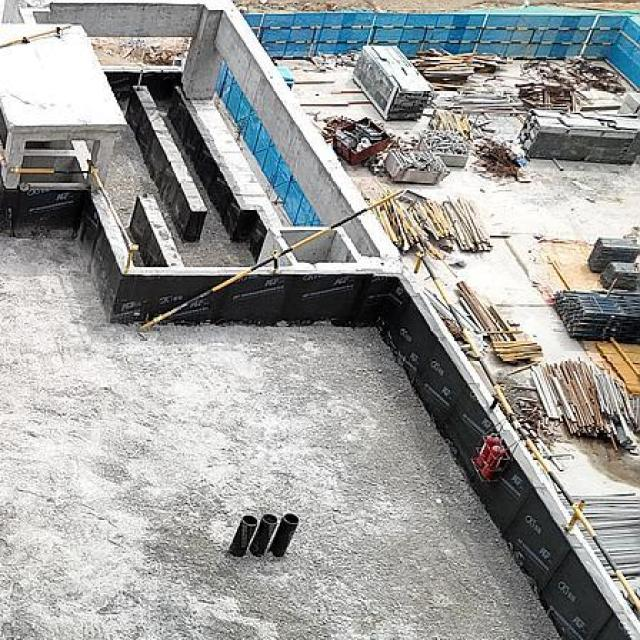edge_guardrail: (414, 245, 640, 629), (137, 188, 426, 333), (7, 159, 139, 274), (250, 24, 640, 59), (0, 25, 71, 50)
